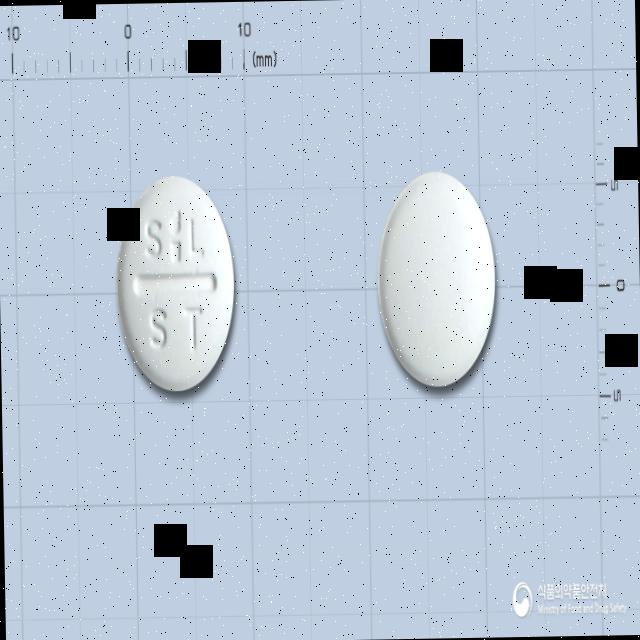Septrin: (115, 174, 238, 392)
